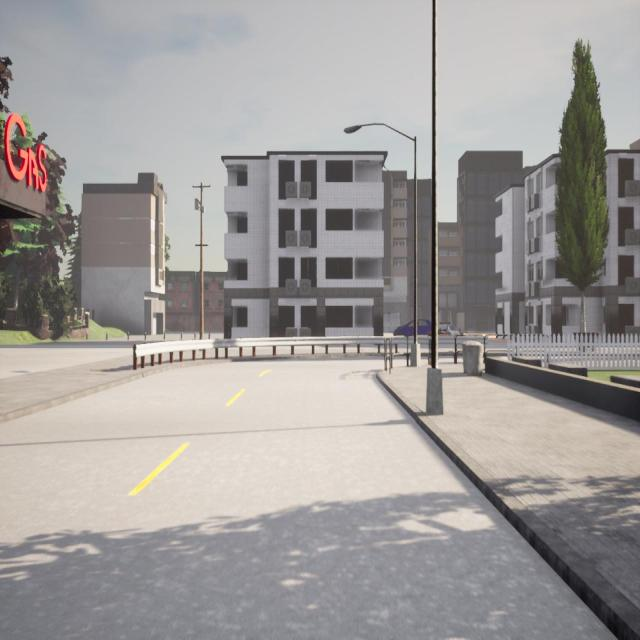Vehicle: (394, 318, 432, 337), (428, 322, 462, 336)
